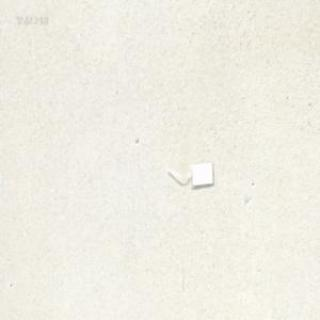LuggageTagtrack_idkeyframe: (165, 158, 212, 186)
